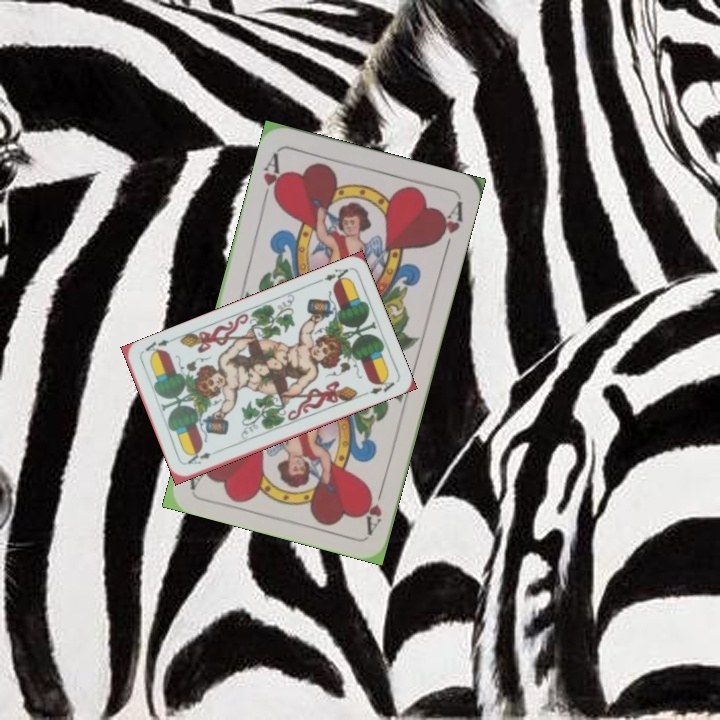EA: (313, 264, 352, 287), (183, 448, 213, 467)
HA: (257, 148, 287, 207), (359, 477, 388, 536)
